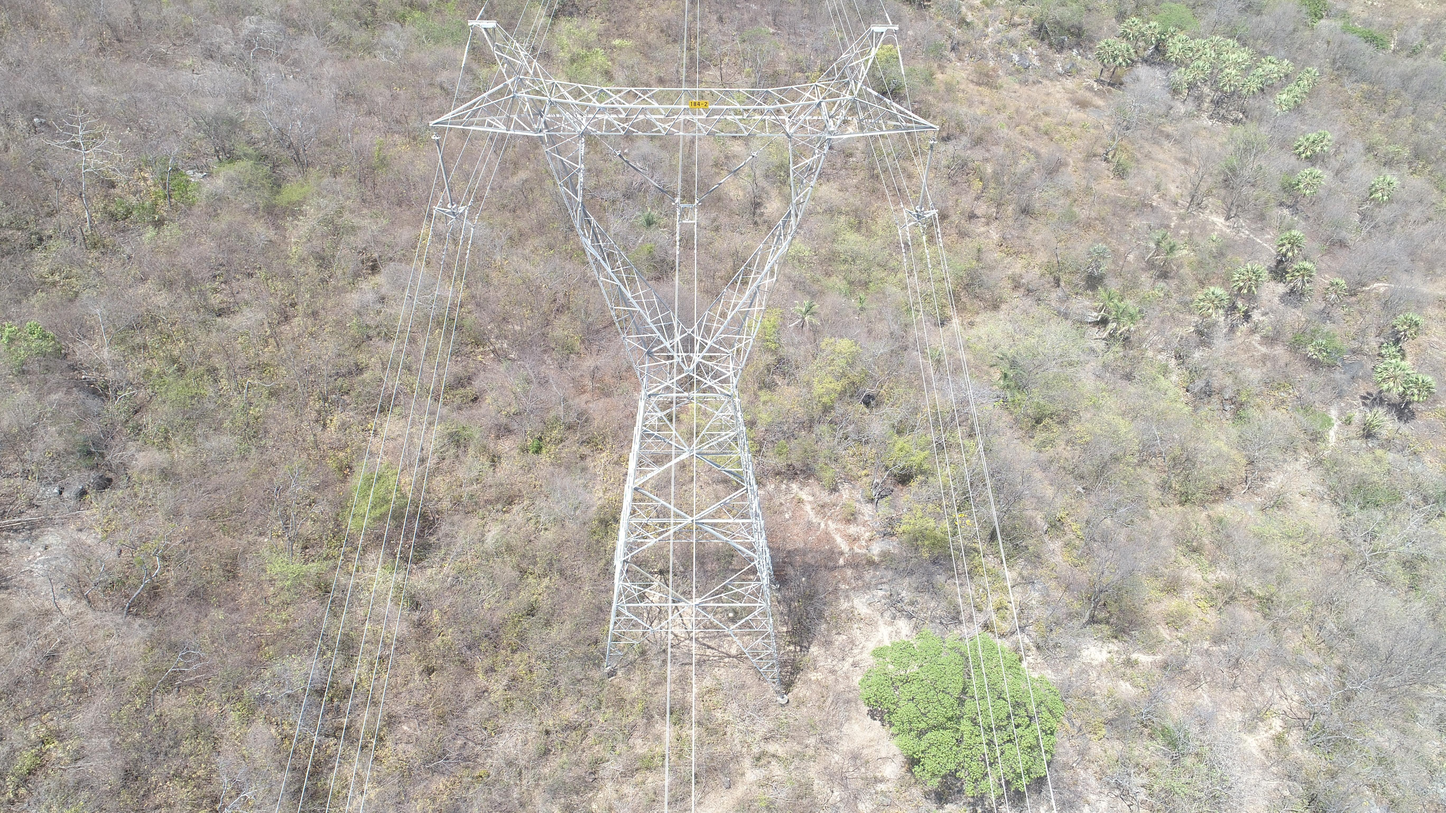power_tower: (426, 19, 945, 703)
